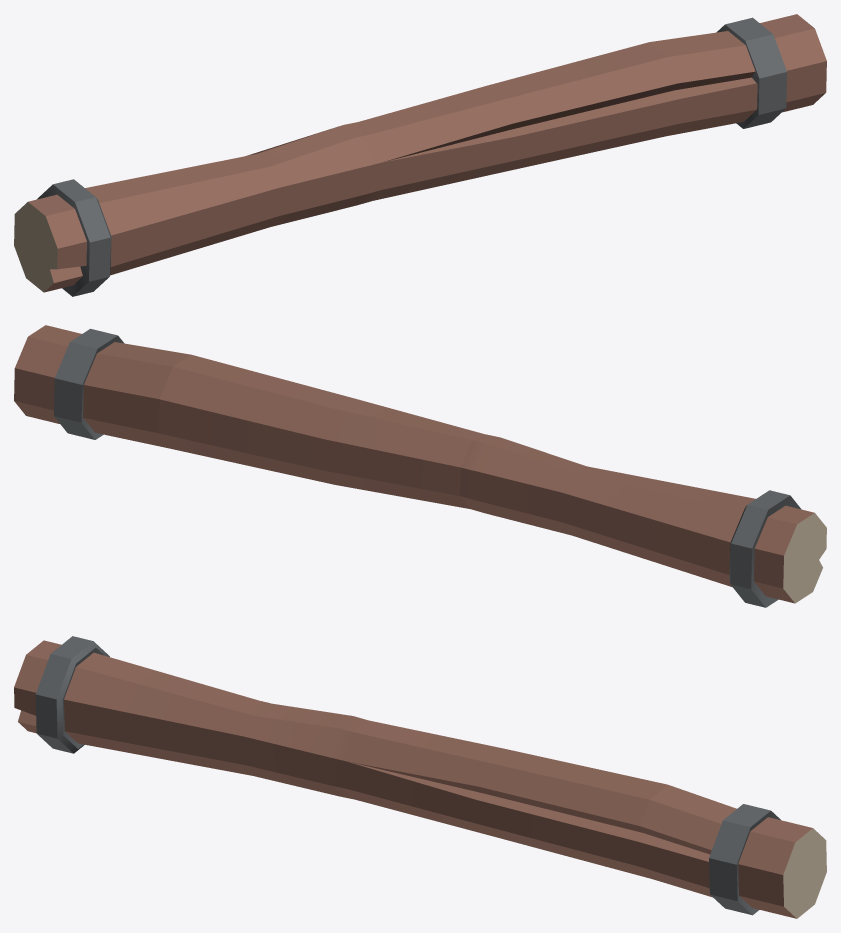
File: SM_Spikes_06.fbx
3 renders of one model, top to bottom at view 1: azimuth 30°, elevation 25°; view 2: azimuth 150°, elevation 25°; view 3: azimuth 330°, elevation 25°, orthographic.
Parts seen in each view (by area): view 1: Spikes_06; view 2: Spikes_06; view 3: Spikes_06.
Part boxes in pixels (x1,y1,x2,y2): Spikes_06: (14,14,826,296); Spikes_06: (14,325,826,607); Spikes_06: (14,636,826,918).
Size of the model in its own units: 86.25 by 10.52 by 10.52.
